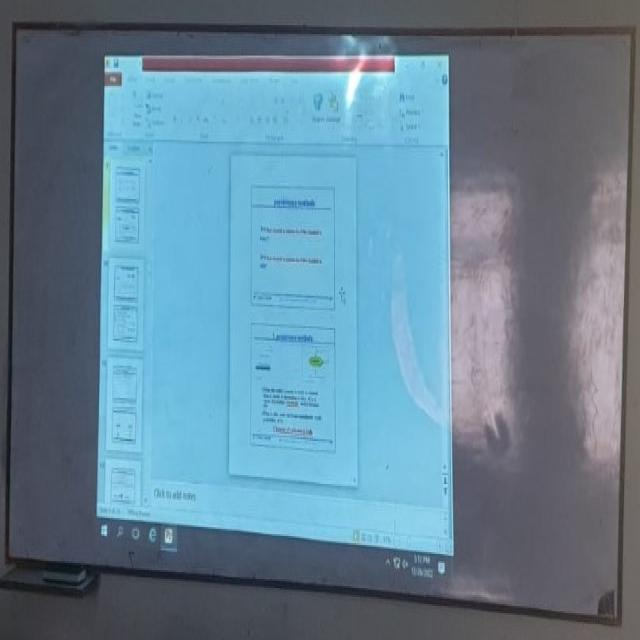Slide: (94, 47, 453, 581)
White-board: (7, 27, 636, 628)
